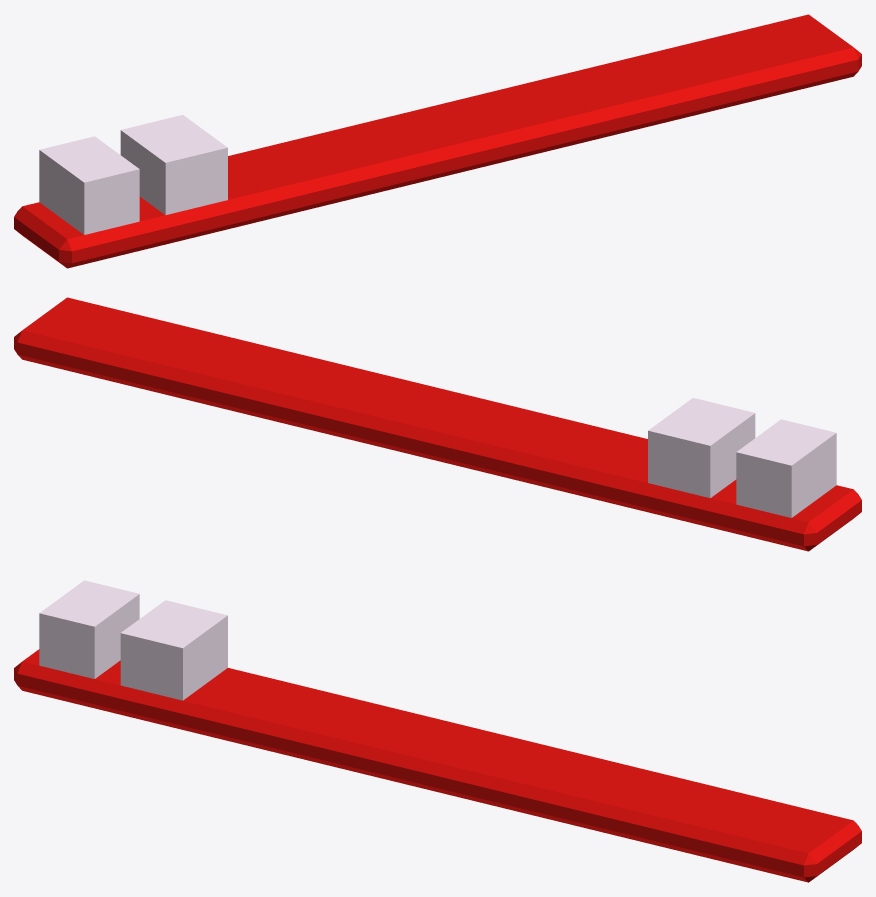
The model's file is ToothBrush.fbx.
3 views of the same model, one above another, from view 1: azimuth 30°, elevation 25°; view 2: azimuth 150°, elevation 25°; view 3: azimuth 330°, elevation 25° (orthographic).
Visible parts, largest first — view 1: Cube; view 2: Cube; view 3: Cube.
Boxes of the visible parts, x1,y1,x2,y2 form: Cube: [14, 14, 861, 268]; Cube: [14, 297, 861, 551]; Cube: [14, 580, 861, 882].
Bounding box in the file's own units: 1700 × 165 × 200.
